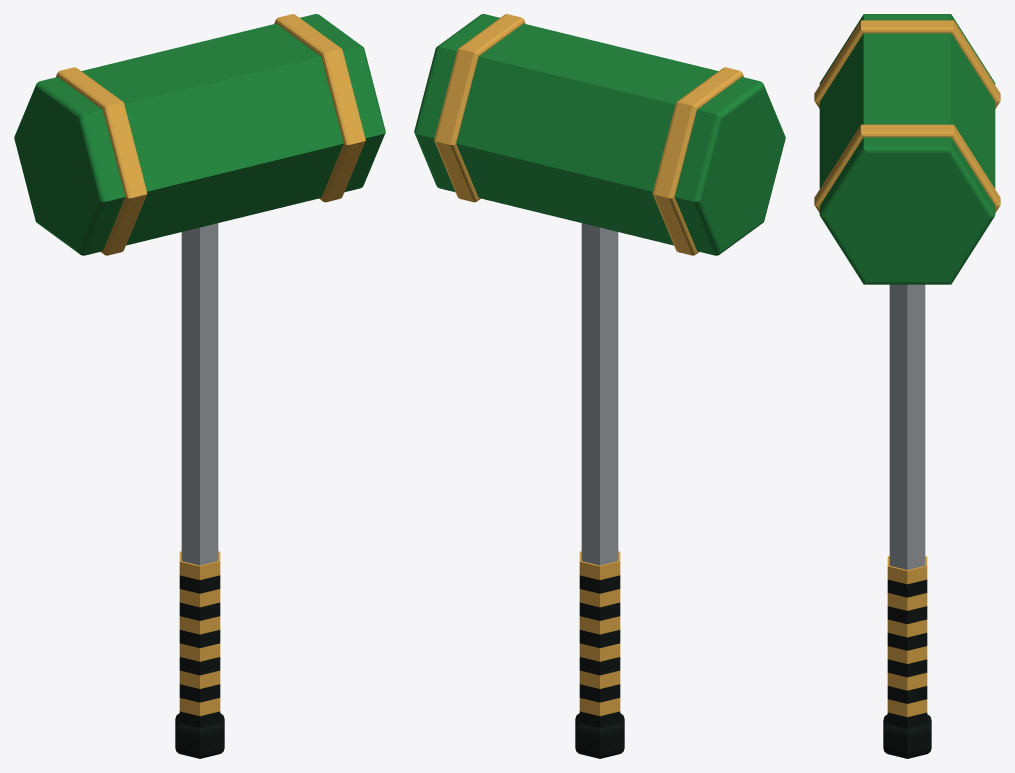
The model's file is hammer_midaru.fbx.
3 renders of one model, left to right at view 1: azimuth 30°, elevation 25°; view 2: azimuth 150°, elevation 25°; view 3: azimuth 270°, elevation 25°, orthographic. The views are drawn at different scales.
Parts seen in each view (by area): view 1: midaru_hammer; view 2: midaru_hammer; view 3: midaru_hammer.
Part boxes in pixels (<box>): midaru_hammer: <box>14,14,385,758</box>; midaru_hammer: <box>414,14,785,758</box>; midaru_hammer: <box>814,14,1000,758</box>.
Size of the model in its own units: 1.1 by 2.54 by 0.636.
